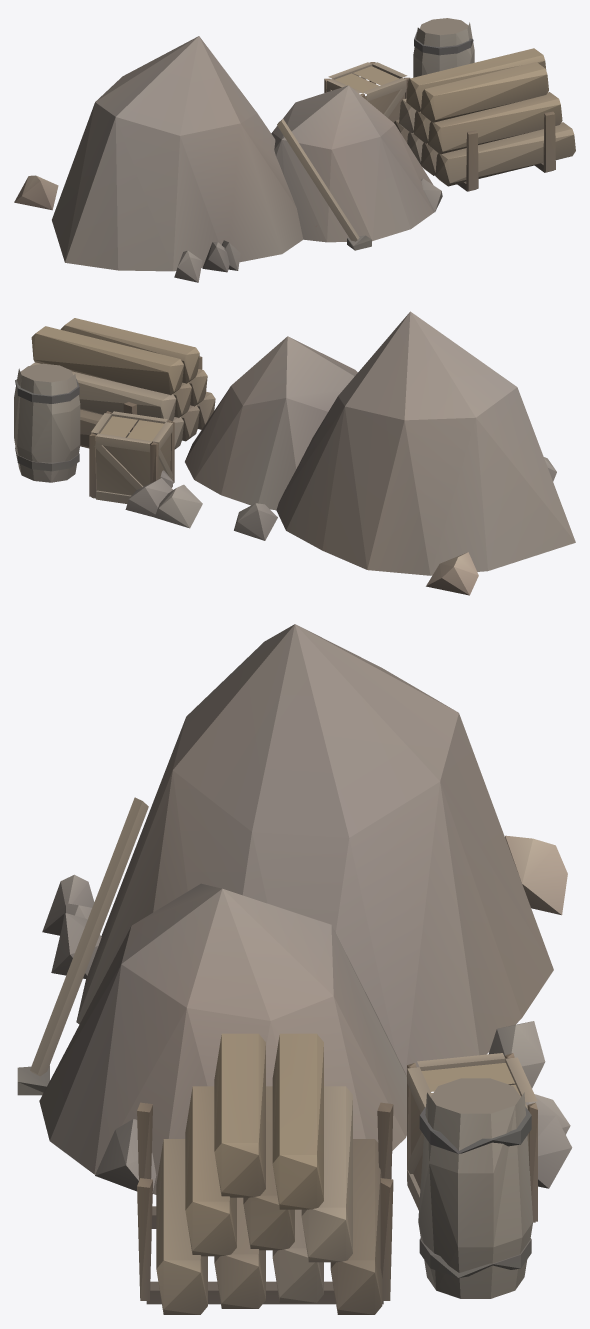
File: spoil.lod1.glb
3 renders of one model, top to bottom at view 1: azimuth 30°, elevation 25°; view 2: azimuth 150°, elevation 25°; view 3: azimuth 270°, elevation 25°, orthographic. The views are drawn at different scales.
Bounding box in the file's own units: 5.23 × 1.9 × 2.58.
